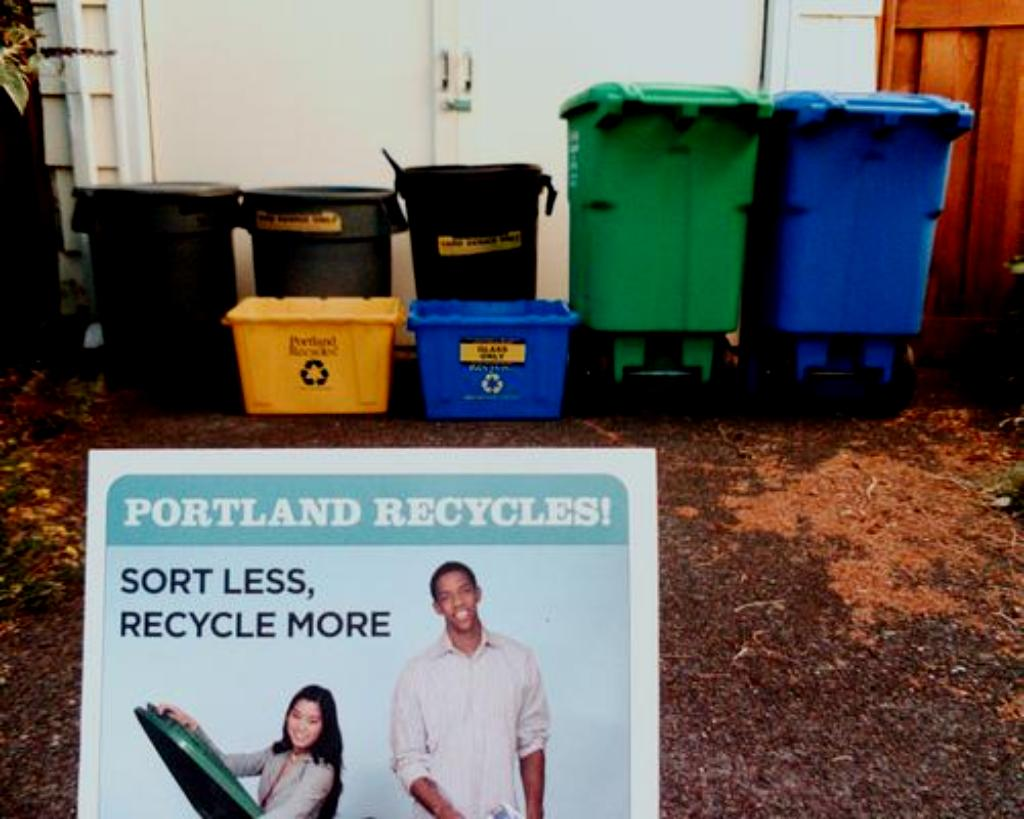dustbin: (560, 65, 776, 413), (773, 89, 974, 406), (74, 163, 261, 387), (414, 286, 586, 423), (228, 285, 409, 411)
